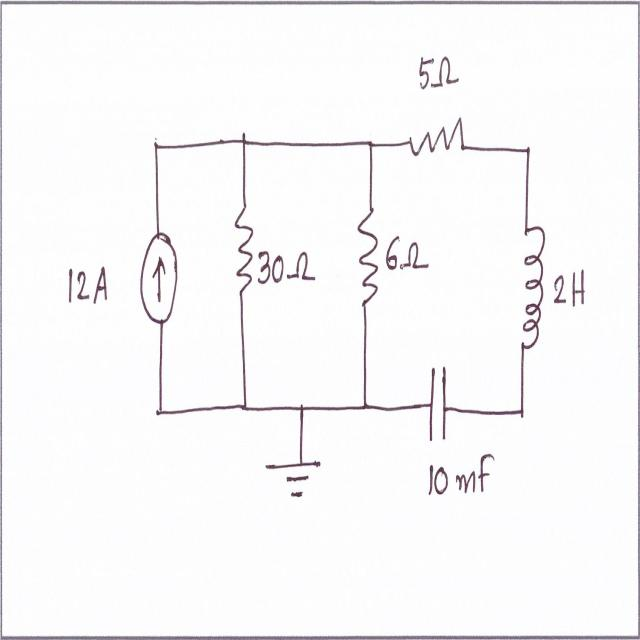capacitor: (426, 347, 451, 454)
current_source: (136, 225, 181, 337)
ground: (257, 450, 328, 504)
inductor: (515, 212, 546, 358)
resistor: (228, 198, 260, 316), (405, 114, 466, 168), (354, 204, 383, 314)
